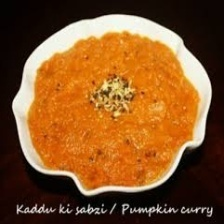sabzi: (24, 31, 200, 188)
